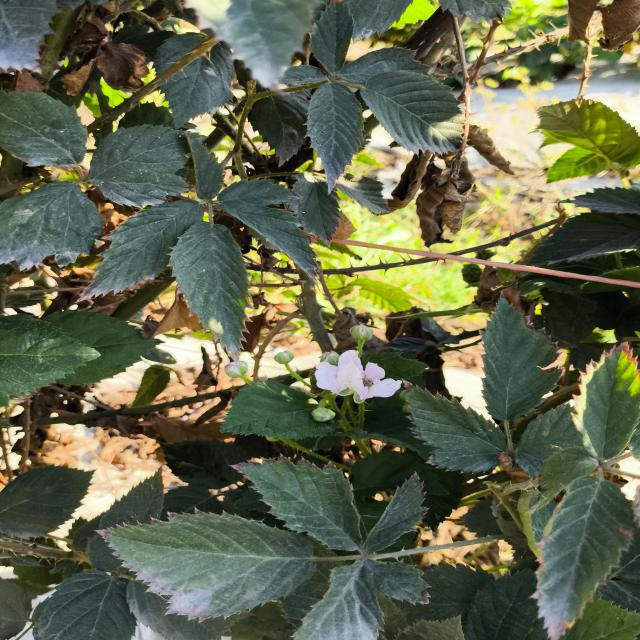boton: (225, 360, 248, 378), (349, 324, 373, 340), (312, 407, 335, 422), (274, 350, 294, 365), (321, 351, 339, 365)
flor: (315, 350, 401, 401)
